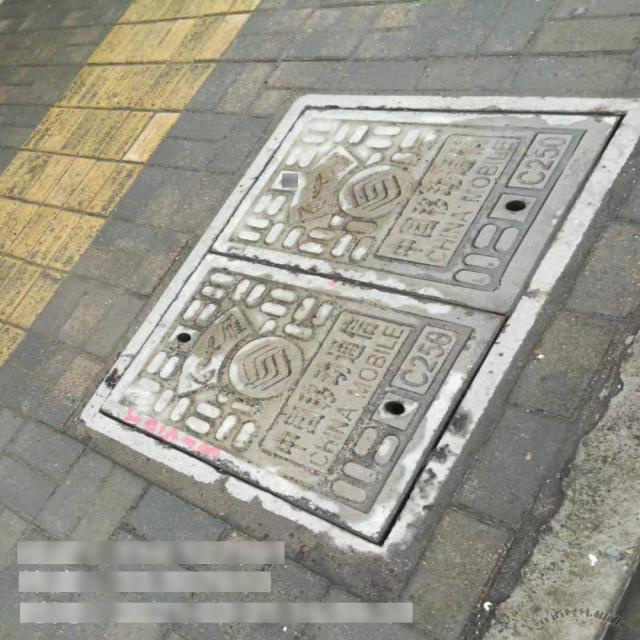Good: (81, 92, 640, 558)
